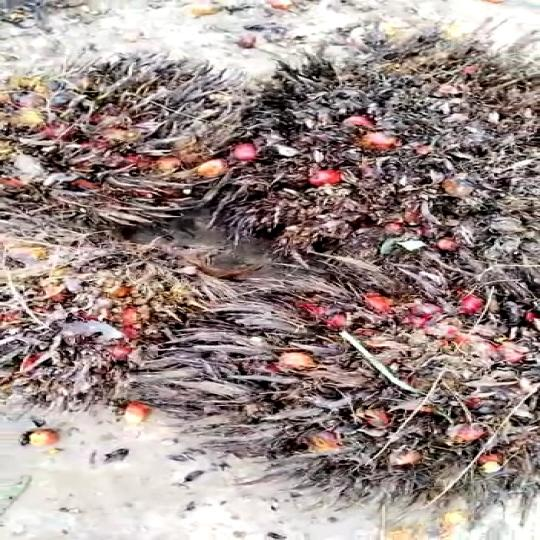terlalu masak: (127, 239, 540, 494), (222, 33, 540, 256), (0, 52, 280, 234), (0, 238, 261, 412)
